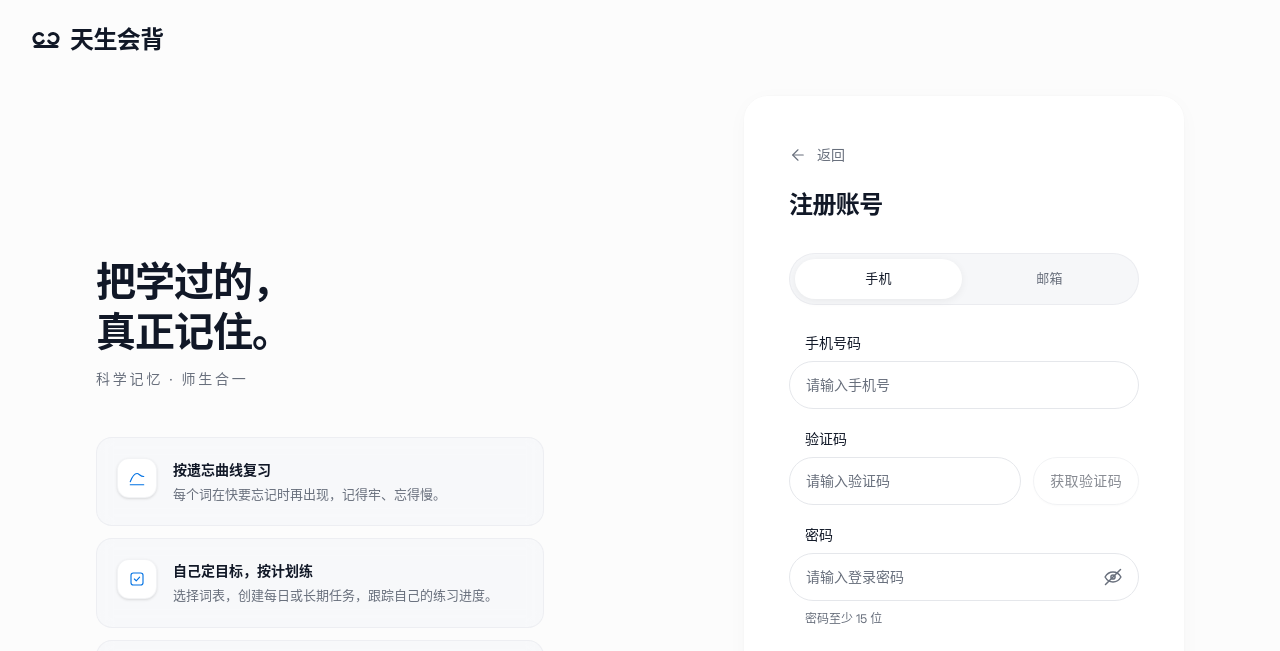
Test: RegisterForm — 手机号验证码注册 › 获取验证码使用 register purpose，并进入倒计时
Step 1. Type "13800138000" into the field with placeholder "请输入手机号" → {"x": 964, "y": 385}, box [789,361,1139,409]
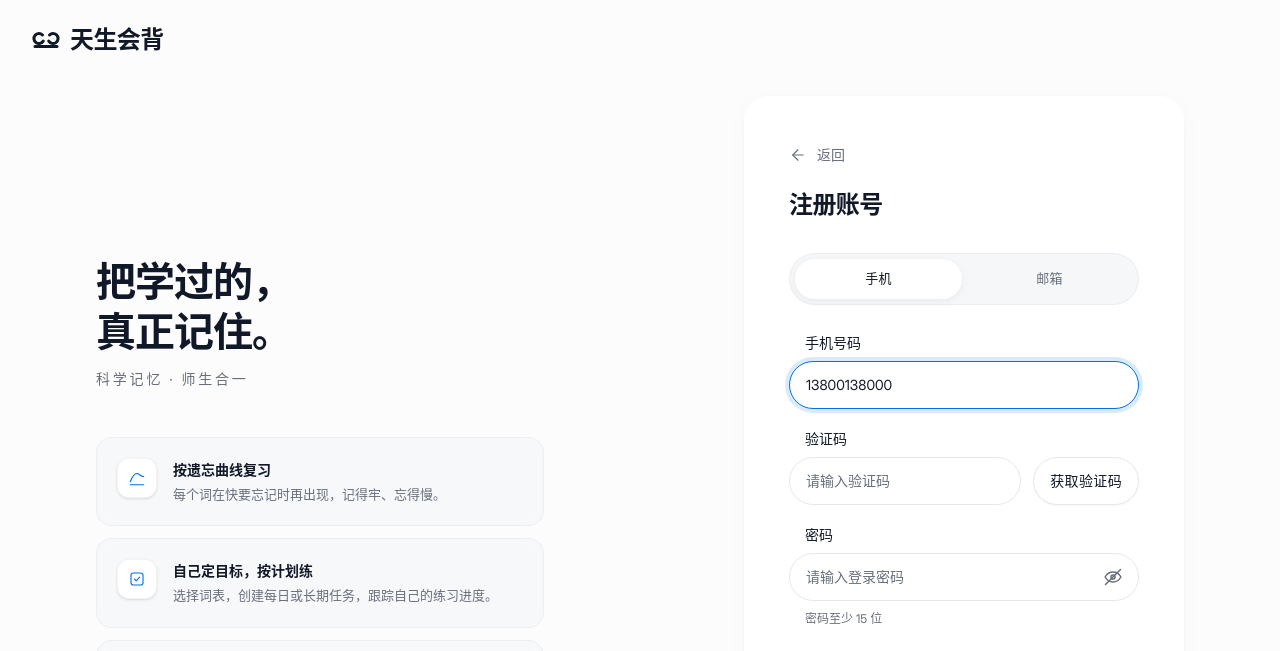
Step 2. Click the button "获取验证码" → {"x": 1086, "y": 481}, box [1033,457,1139,505]
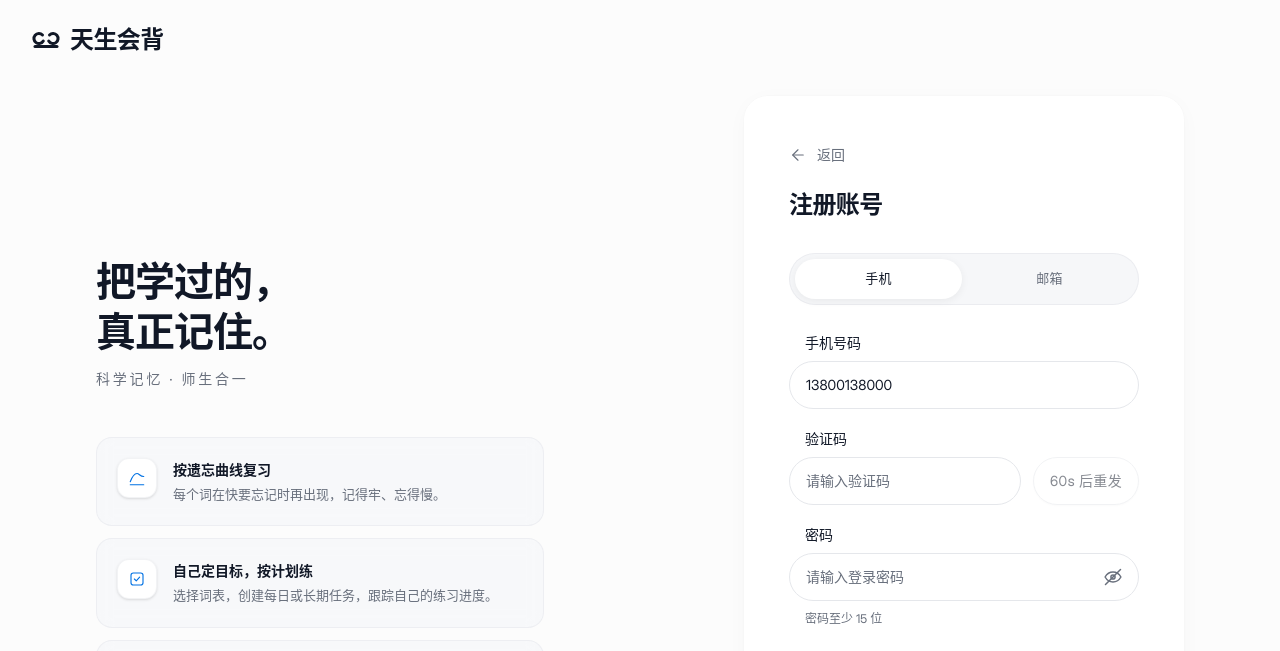
Expected: the button "60s 后重发" is disabled, [1033,457,1139,505]
